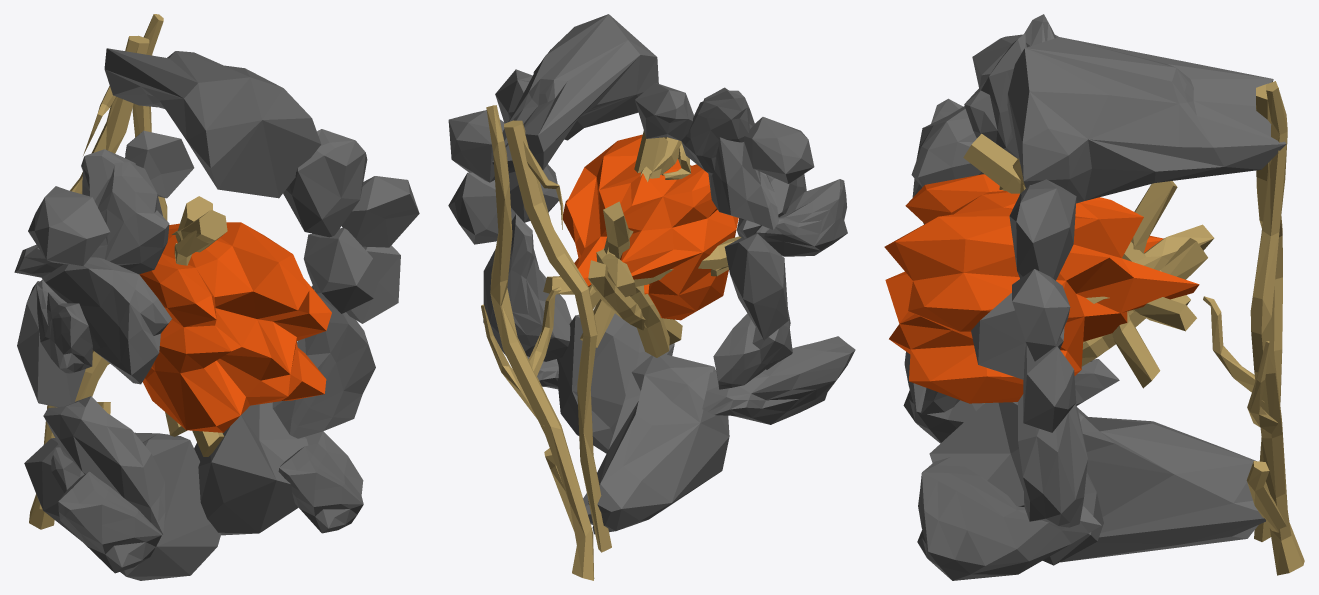
The model's file is CampFire1.fbx.
The picture shows the model from 3 angles, left to right: view 1: azimuth 30°, elevation 25°; view 2: azimuth 150°, elevation 25°; view 3: azimuth 270°, elevation 25°; orthographic projection. The views are drawn at different scales.
Parts seen in each view (by area): view 1: CampFireCamp.001; view 2: CampFireCamp.001; view 3: CampFireCamp.001.
Part boxes in pixels (<box>): CampFireCamp.001: <box>14,14,419,580</box>; CampFireCamp.001: <box>448,14,855,580</box>; CampFireCamp.001: <box>884,14,1304,580</box>.
Size of the model in its own units: 419 by 340 by 514.
